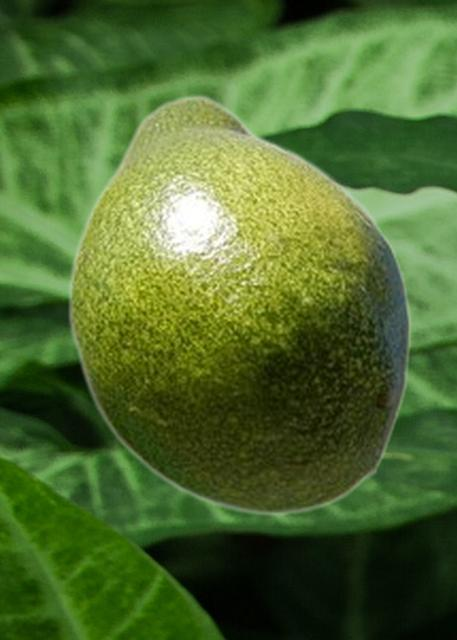avocado: (66, 94, 411, 517)
